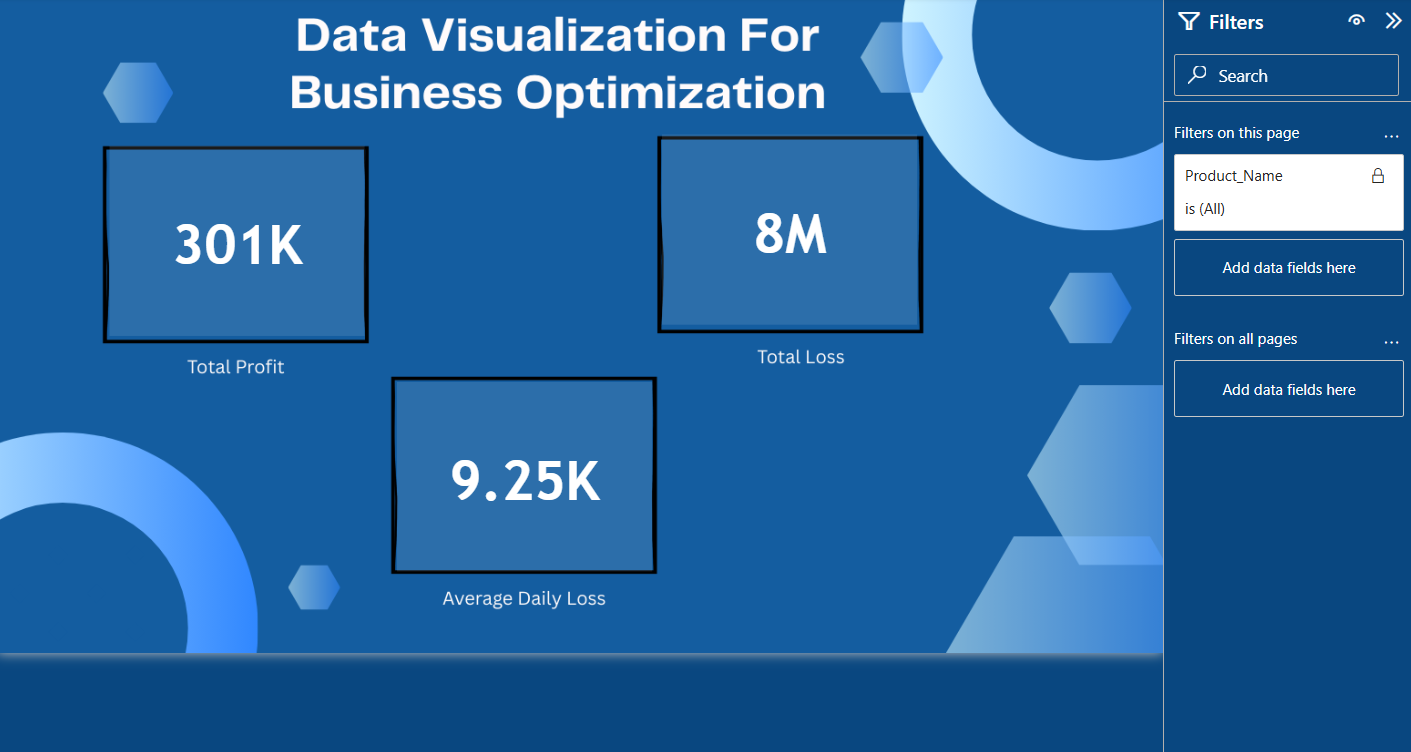

The page's visual inventory and layout, read from the dashboard file:
{"tool":"powerbi","page":{"name":"Page 2","canvas":[1280,720],"ordinal":1},"visuals":[{"type":"card","fields":{"Values":["Measure Table.Average Loss Per Day"]},"box":[438.9,423.2,280.1,208],"z":0},{"type":"card","fields":{"Values":["Measure Table.Total Profit"]},"box":[122.8,163.8,280.4,208.4],"z":1000},{"type":"card","fields":{"Values":["Measure Table.Total Loss"]},"box":[730.7,151.3,280.4,208.4],"z":2000}]}

Visuals, with their boxes on the page's 1280x720 design canvas (x1, y1, x2, y2). These are canvas units, not pixel positions in the 1411x752 screenshot, which may show the page scaled, cropped or inside an application window:
card - Measure Table.Average Loss Per Day: detection(439, 423, 719, 631)
card - Measure Table.Total Profit: detection(123, 164, 403, 372)
card - Measure Table.Total Loss: detection(731, 151, 1011, 360)
